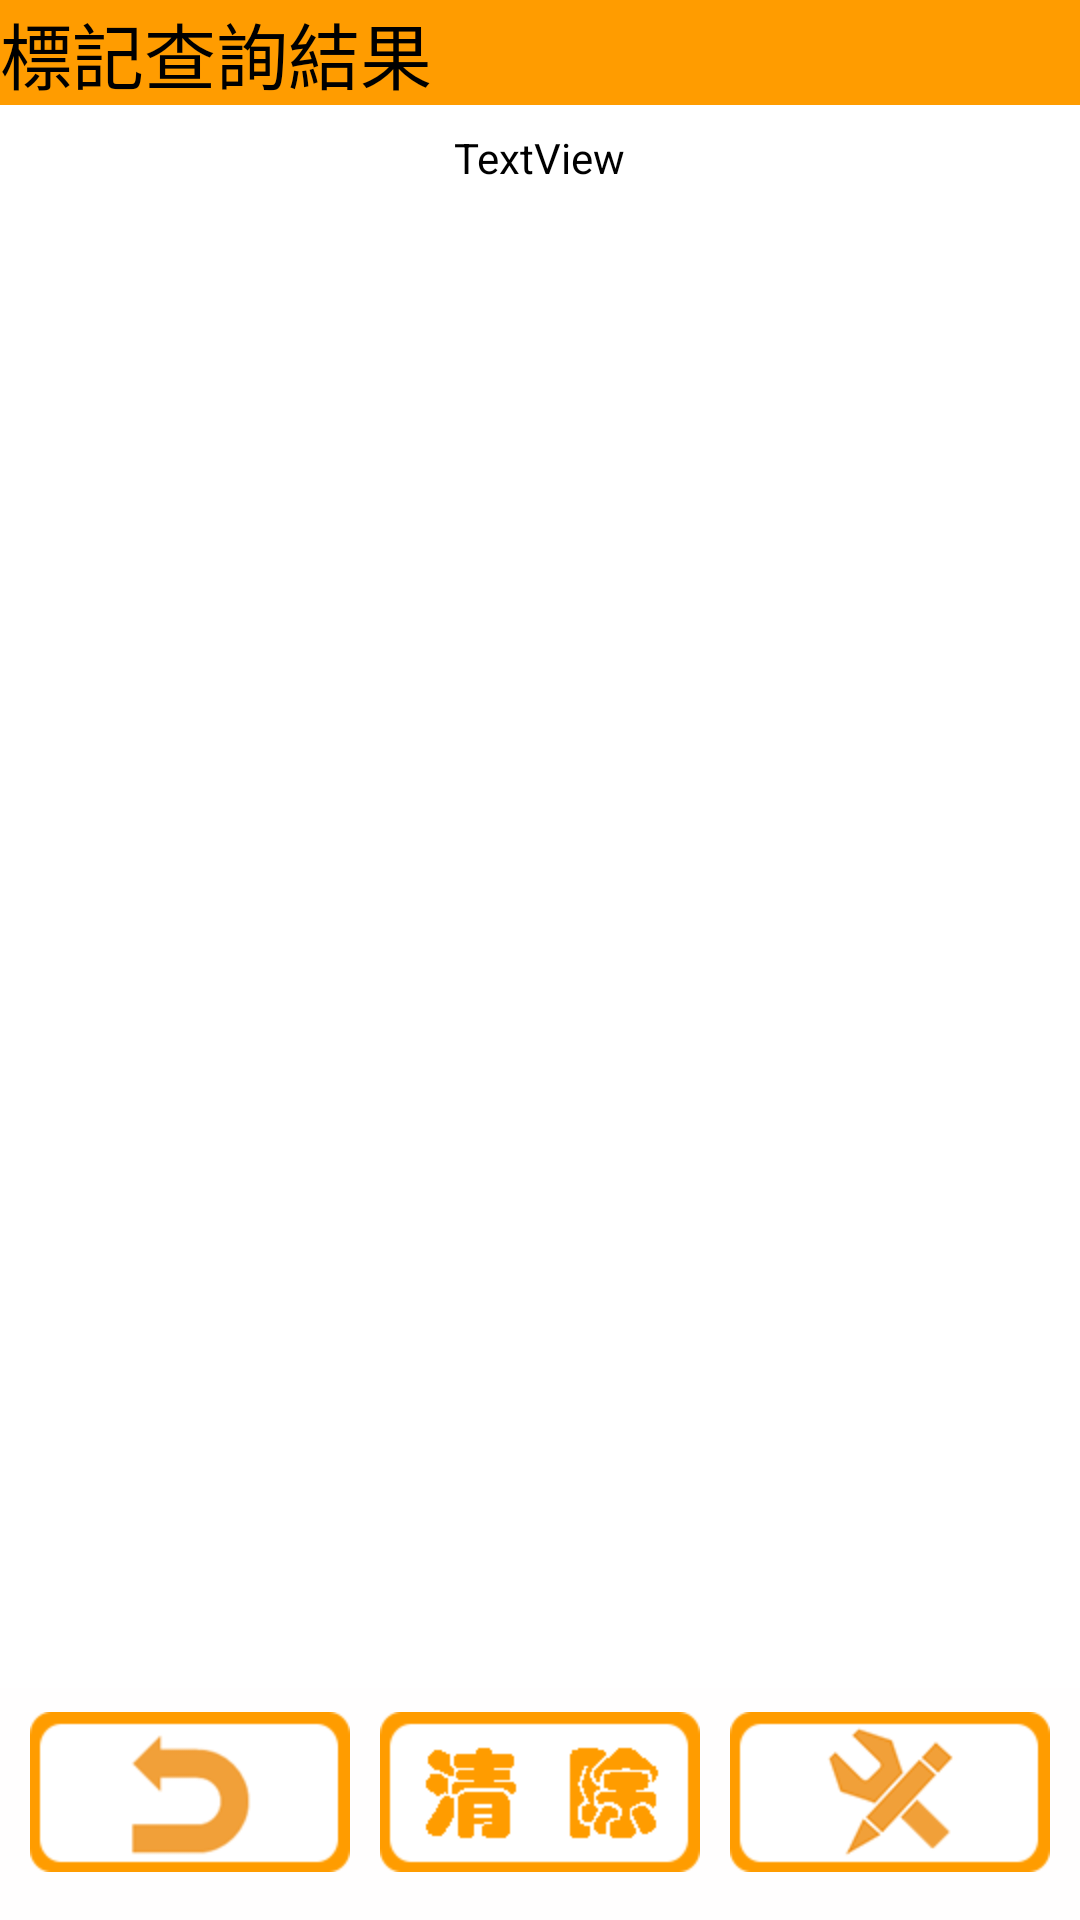

Screen size 1080px×1920px. Icon name, then its center in pixels as (x,y):
return click: (190,1792)
